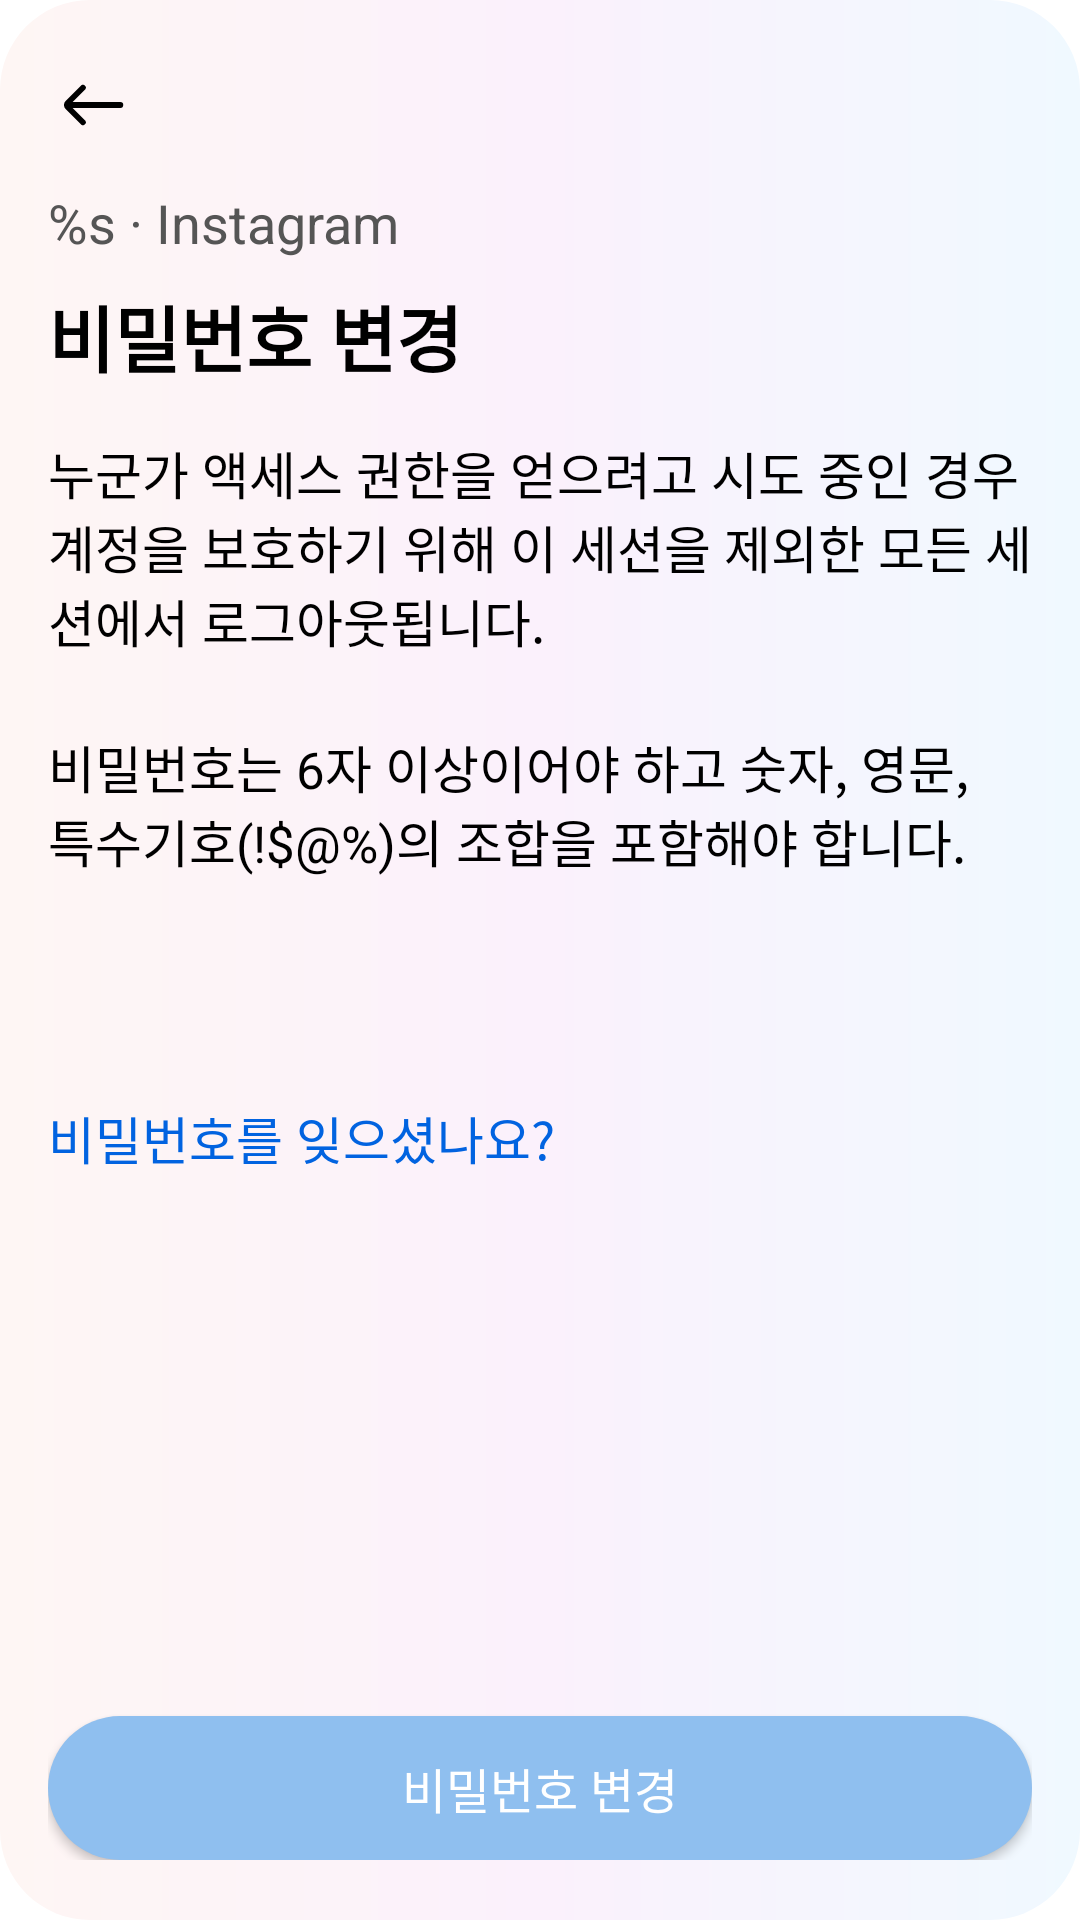

Icons on this 1080*1920 Android screen, each with the point to tap as [x,y]:
arrow back: [94,105]
